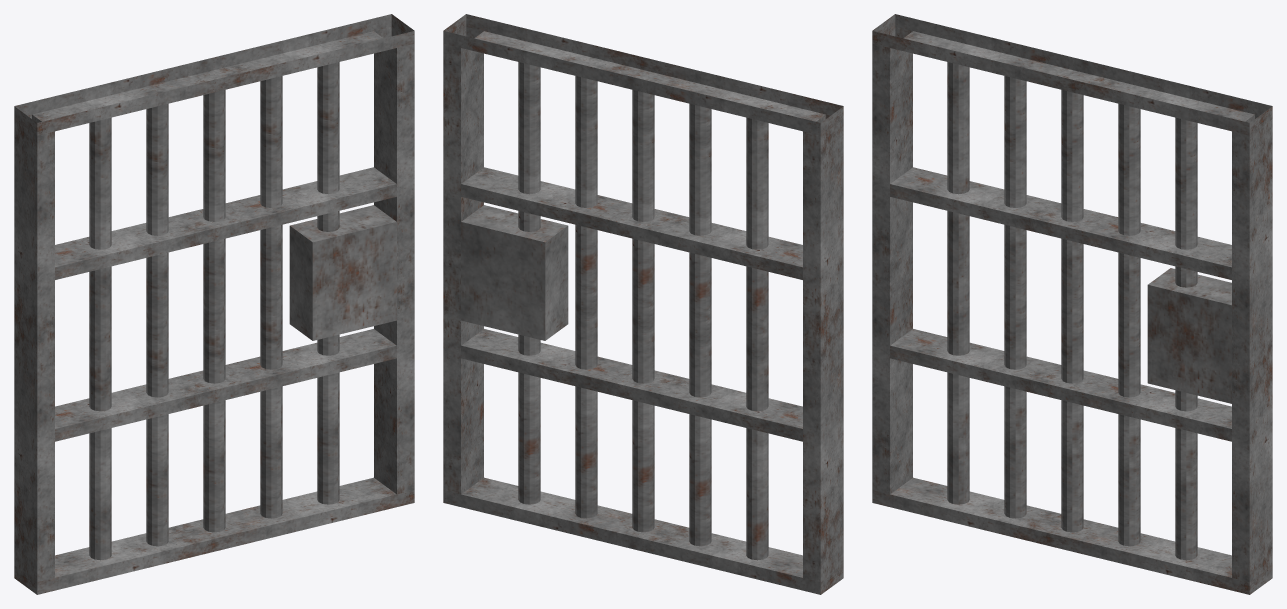
Rendered from cell_door.fbx.
3 views of the same model, side by side, from view 1: azimuth 30°, elevation 25°; view 2: azimuth 150°, elevation 25°; view 3: azimuth 330°, elevation 25° (orthographic).
Parts seen in each view (by area): view 1: cell_door; view 2: cell_door; view 3: cell_door.
Part boxes in pixels (bbox=[...]): cell_door: bbox=[14, 14, 414, 594]; cell_door: bbox=[443, 14, 843, 594]; cell_door: bbox=[872, 14, 1272, 594].
Bounding box in the file's own units: 186 × 222 × 19.62.
1 material, 1 textured.
